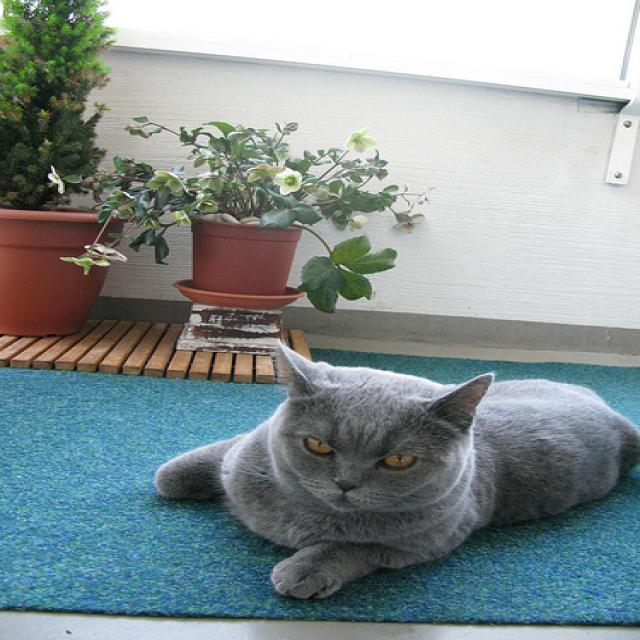British_Shorthair: (273, 338, 490, 509)
